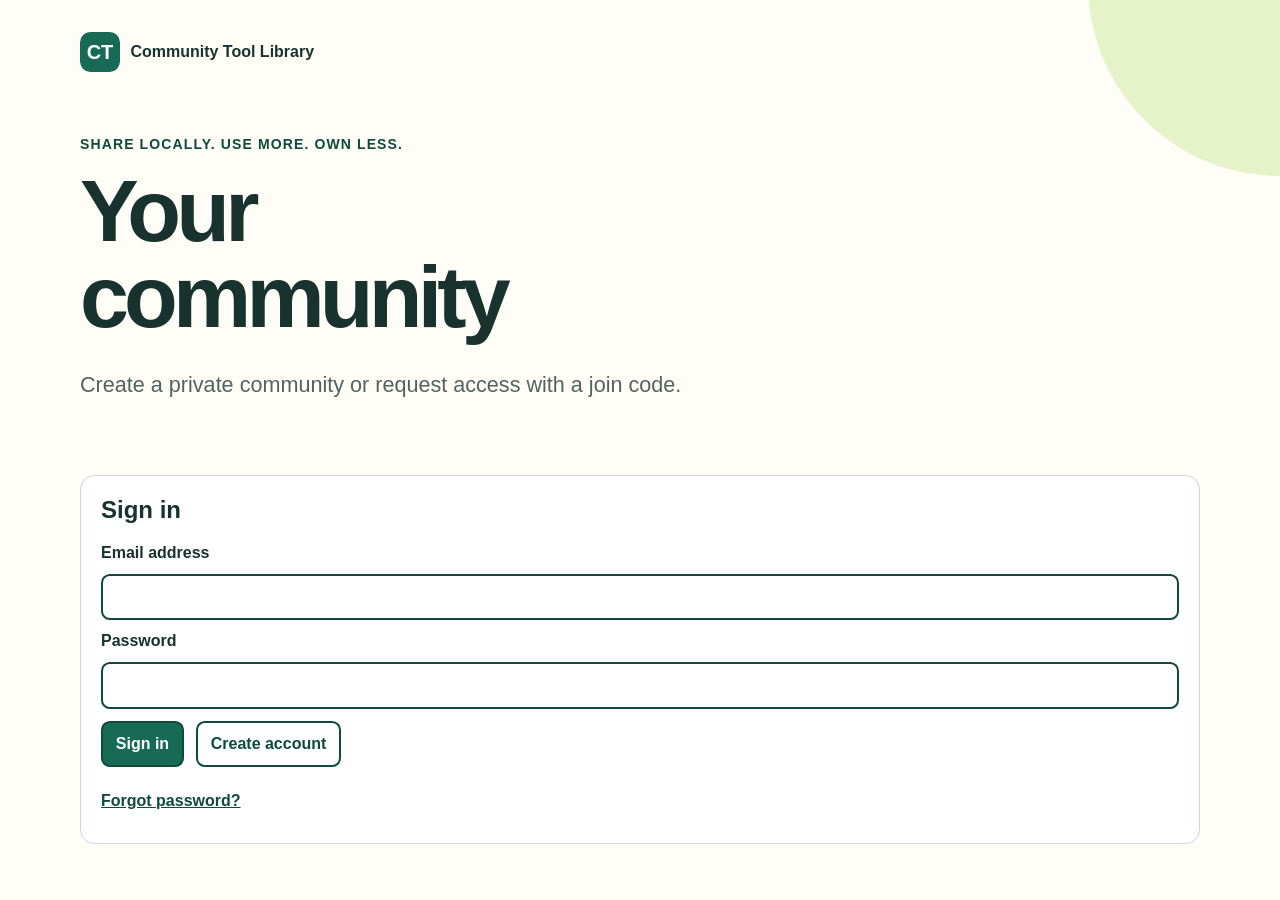
Test: CommunityPage › retains the join destination while an unauthenticated user signs in
Type "member@example.test" into the field labelled "Email address" at point(640, 597), box x1=101 y1=574 x2=1179 y2=620
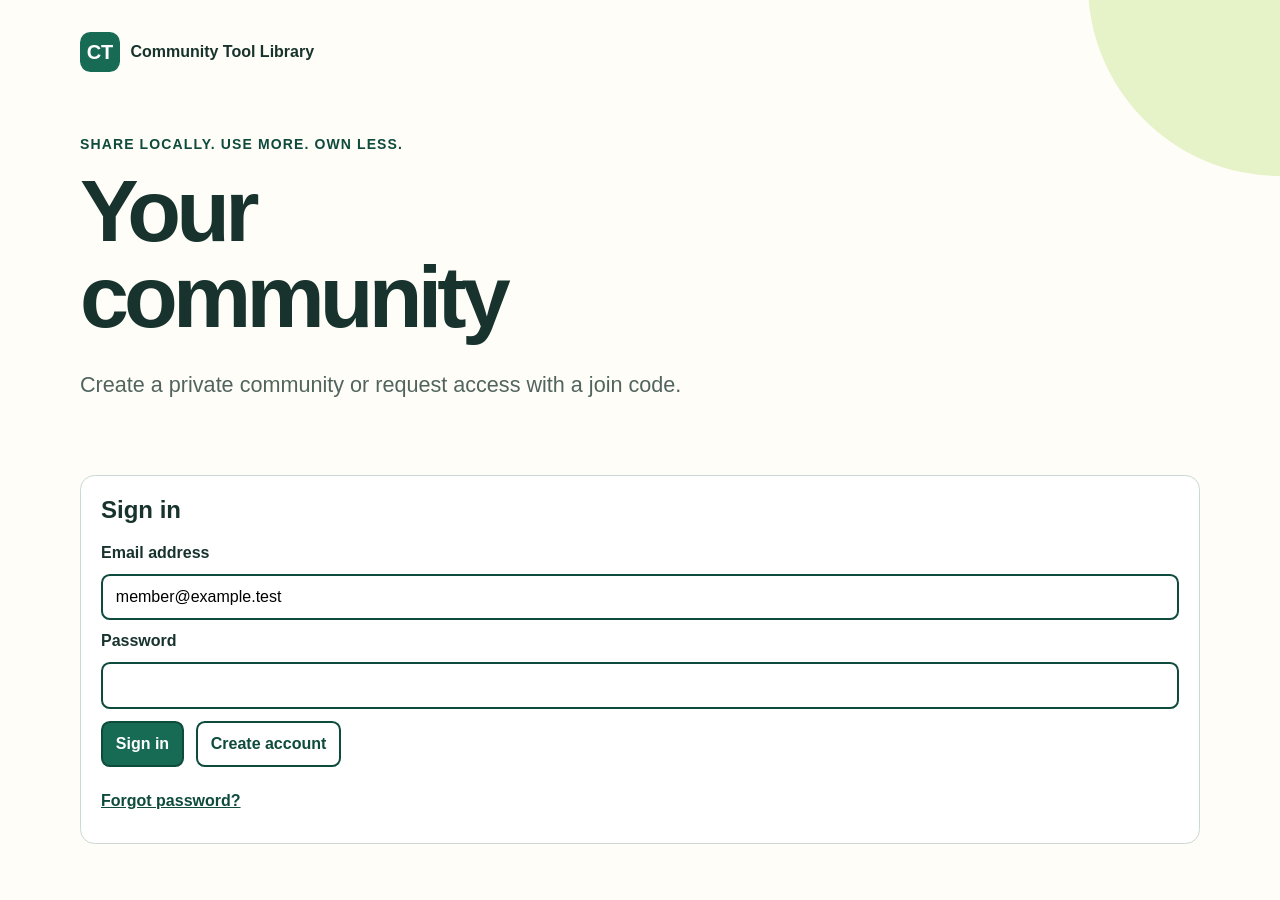
Type "synthetic-password" into the password field labelled "Password" at point(640, 686), box x1=101 y1=662 x2=1179 y2=709
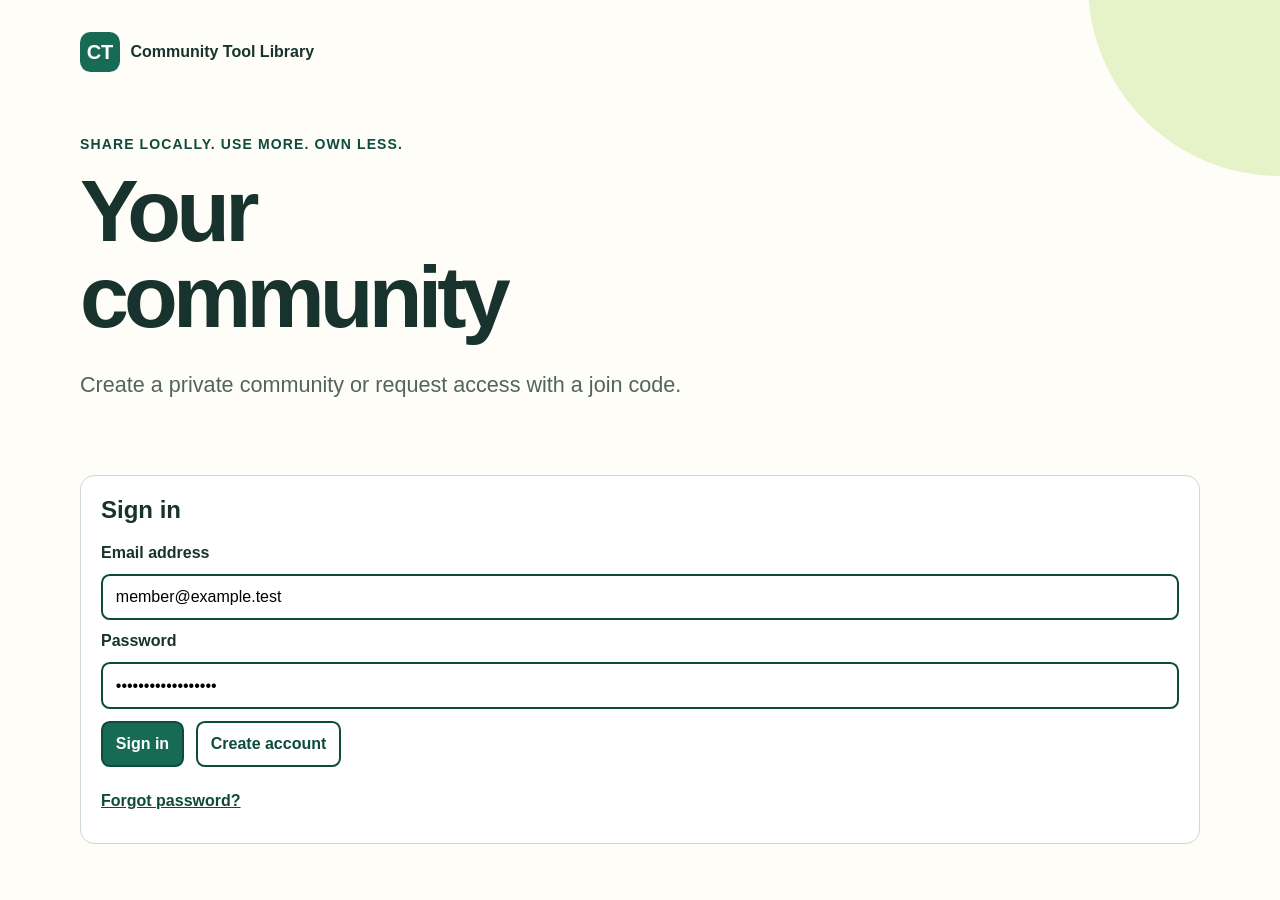
Click the button "Sign in" at point(142, 744), box x1=101 y1=721 x2=184 y2=767
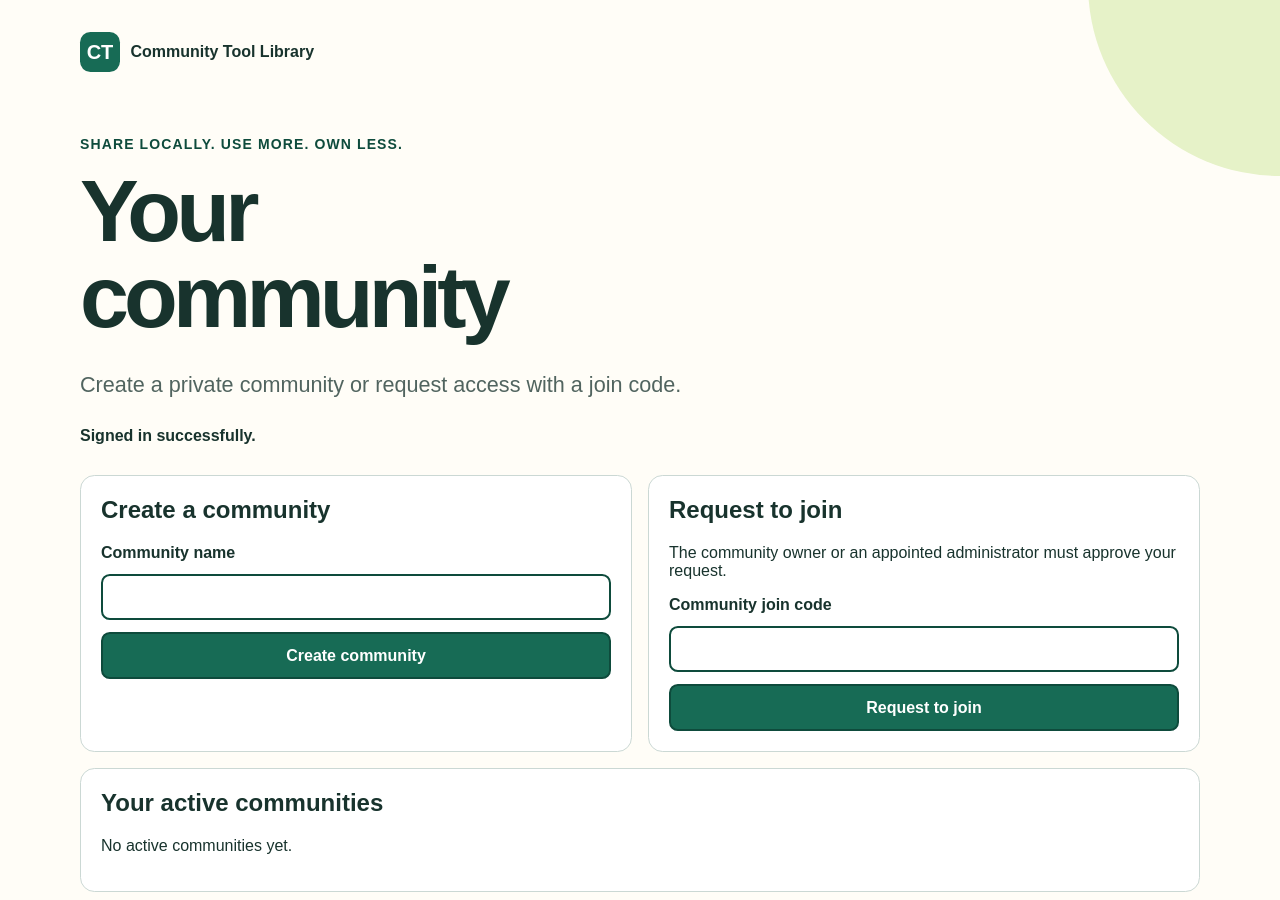
Check: the heading "Request to join" is shown, box x1=669 y1=496 x2=842 y2=523
